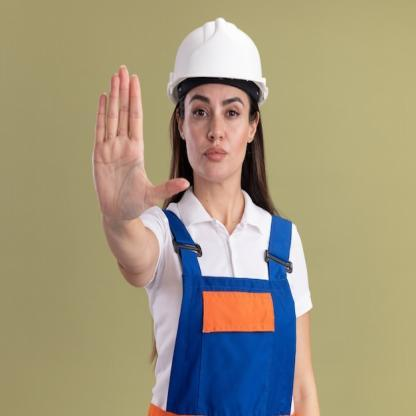stop: (92, 61, 192, 224)
